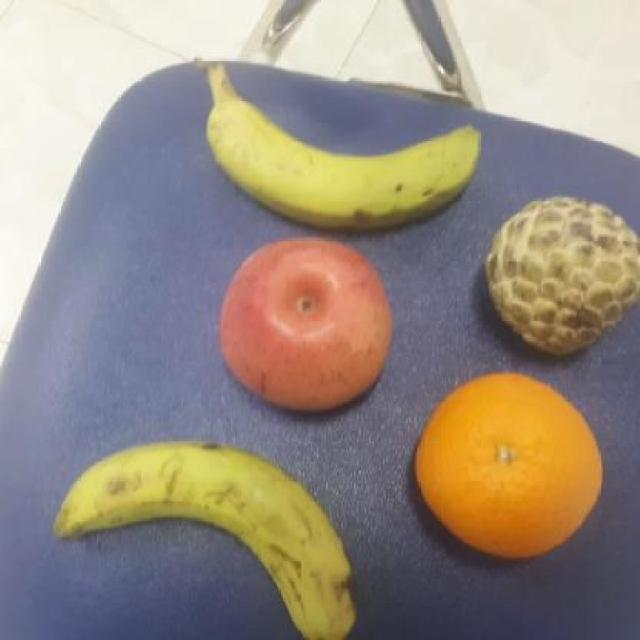apple: (217, 235, 392, 411)
banana: (52, 438, 360, 639), (208, 83, 480, 240)
oren: (408, 371, 608, 558)
sugar apple: (479, 195, 639, 358)
